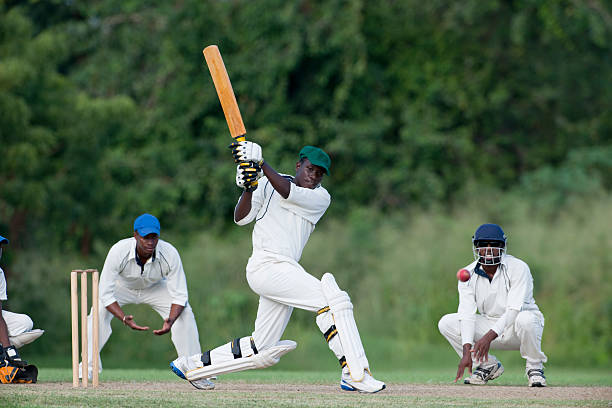bottom left: (212, 41, 224, 53)
bottom right: (197, 47, 210, 60)
top left: (241, 126, 255, 140)
top right: (227, 129, 241, 143)
